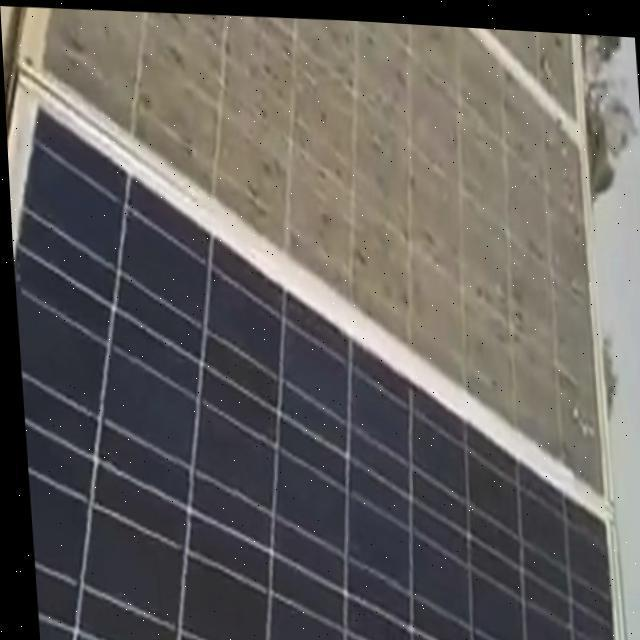Anomaly Solar Panel: (24, 6, 606, 509)
Normal Solar Panel: (8, 89, 615, 640)
Surface Contaminant: (29, 7, 603, 503)
